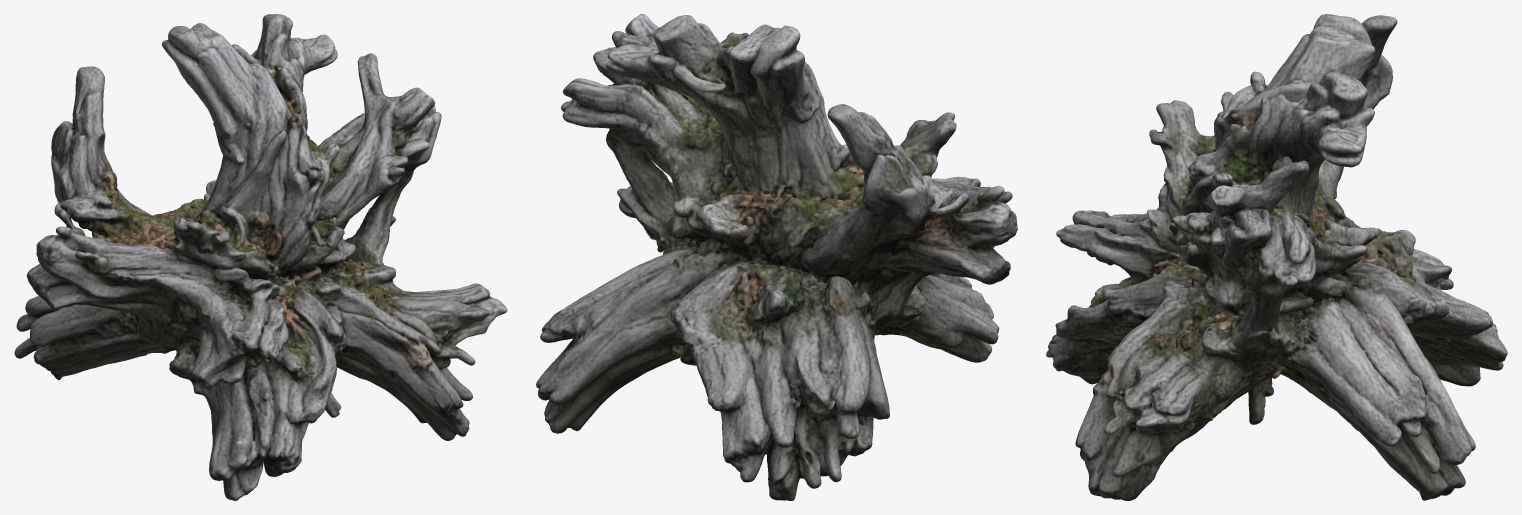
Rendered from driftwood-root-v21.glb.
3 views of the same model, side by side, from view 1: azimuth 30°, elevation 25°; view 2: azimuth 150°, elevation 25°; view 3: azimuth 270°, elevation 25° (orthographic). The views are drawn at different scales.
Parts seen in each view (by area): view 1: world; view 2: world; view 3: world.
Boxes of the visible parts, x1,y1,x2,y2 form: world: (14,14,507,500); world: (536,14,1017,500); world: (1046,14,1507,500).
Bounding box in the file's own units: 0.85 × 0.7454 × 0.7762.
Materials: 1 (1 with a texture image).
